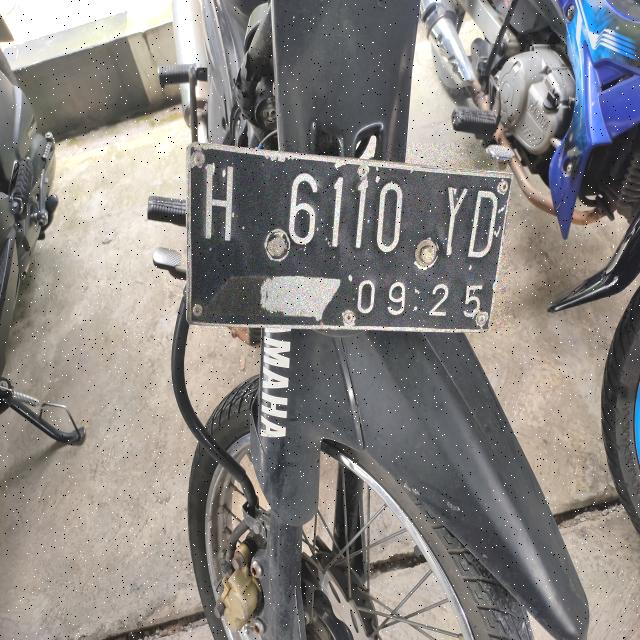plate: (188, 144, 510, 330)
